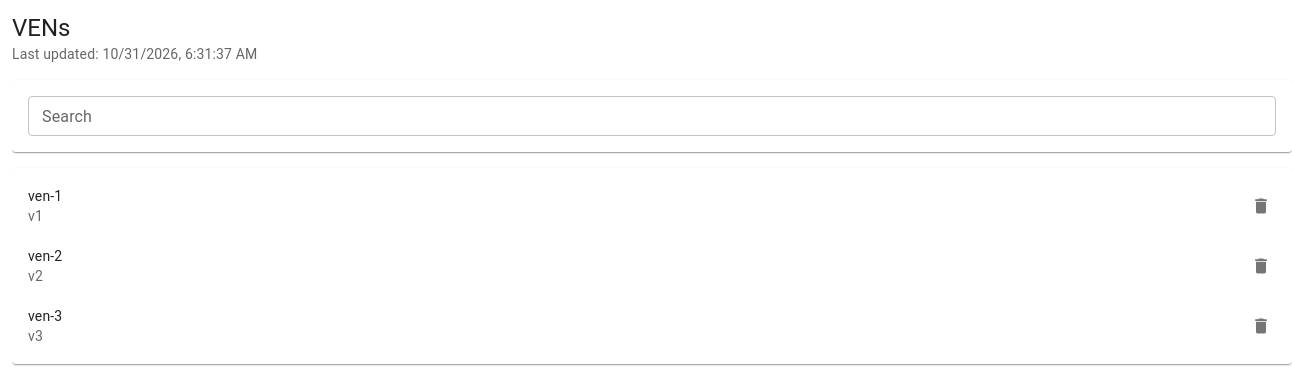
Test: VensPage › shows empty state when no VENs match
Type "zzz-no-match" into the field with test id "vens-search" at coordinates (652, 116), box [28,96,1276,136]
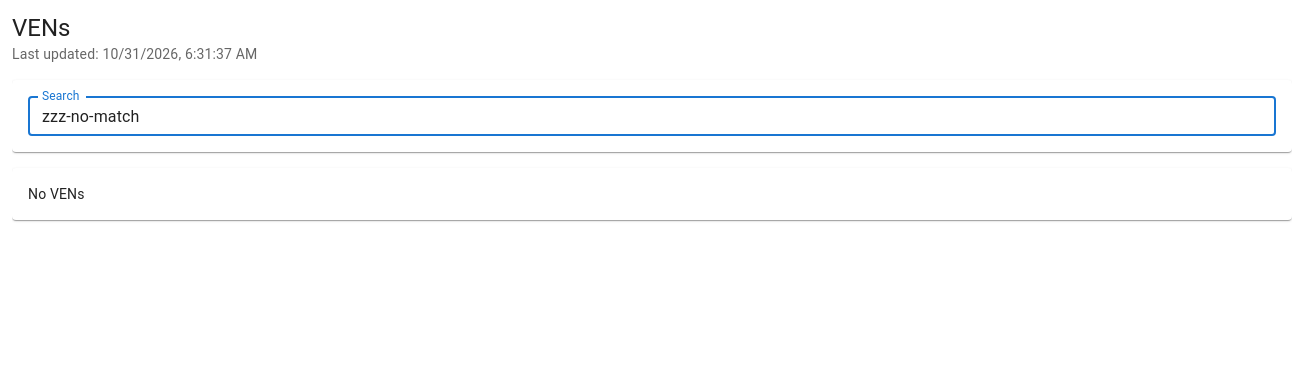
Now the list item with test id "vens-empty" reads "No VENs", box [28,186,85,202]
